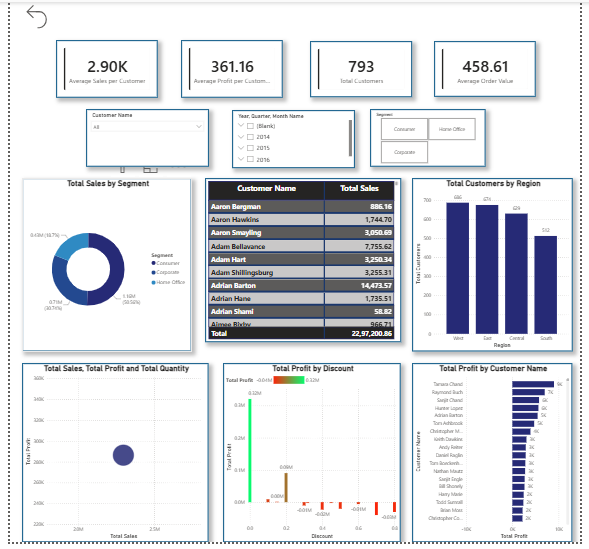

The page's visual inventory and layout, read from the dashboard file:
{"tool":"powerbi","page":{"name":"customer analysis","canvas":[1480,1400],"ordinal":1},"visuals":[{"type":"cardVisual","fields":{"Data":["_Measures.Total Customers"]},"box":[778.6,102.4,265.4,146.1],"z":0},{"type":"cardVisual","fields":{"Data":["_Measures.Average Profit per Customer"]},"box":[442.9,97.6,264.3,150],"z":1000},{"type":"cardVisual","fields":{"Data":["_Measures.Average Sales per Customer"]},"box":[119,97.6,264.3,150],"z":2000},{"type":"cardVisual","fields":{"Data":["_Measures.Average Order Value"]},"box":[1100,102.4,264.3,145.2],"z":3000},{"type":"tableEx","fields":{"Values":["Dim_Customer.Customer Name","_Measures.Total Sales"]},"box":[504.8,457.1,508.6,425.9],"z":4000},{"type":"barChart","fields":{"Y":["_Measures.Total Profit"],"Category":["Dim_Customer.Customer Name"]},"box":[1041.9,935.5,416.1,464.5],"z":5000},{"type":"donutChart","fields":{"Category":["Dim_Customer.Segment"],"Y":["_Measures.Total Sales"]},"box":[31,457.1,440.5,450],"z":6000},{"type":"columnChart","fields":{"Category":["Fact_Sales.Region"],"Y":["_Measures.Total Customers"]},"box":[1042.9,457.1,416.7,450],"z":7000},{"type":"scatterChart","fields":{"X":["_Measures.Total Sales"],"Y":["_Measures.Total Profit"],"Size":["_Measures.Total Quantity"]},"box":[32.3,935.5,483.9,464.5],"z":8000},{"type":"slicer","fields":{"Values":["Dim_Customer.Customer Name"]},"box":[197.6,278.6,319,150],"z":9000},{"type":"slicer","fields":{"Values":["Dim_Customer.Segment"]},"box":[933.3,278.6,300,150],"z":10000},{"type":"actionButton","box":[31,0,100,76.2],"z":11000},{"type":"columnChart","fields":{"Y":["_Measures.Total Profit"],"Category":["Fact_Sales.Discount"]},"box":[551.6,935.5,461.3,464.5],"z":12000},{"type":"slicer","fields":{"Values":["Dim_Date.Year","Dim_Date.Quarter","Dim_Date.Month Name"]},"box":[574.4,279.1,318.6,151.2],"z":13000}]}

Visuals, with their boxes in screenshot pixels (x1, y1, x2, y2), scaled from the page's 1480x1400 canvas onto the 589x549 screenshot:
cardVisual - _Measures.Total Customers: bbox(310, 40, 415, 97)
cardVisual - _Measures.Average Profit per Customer: bbox(176, 38, 281, 97)
cardVisual - _Measures.Average Sales per Customer: bbox(47, 38, 153, 97)
cardVisual - _Measures.Average Order Value: bbox(438, 40, 543, 97)
tableEx - Dim_Customer.Customer Name x _Measures.Total Sales: bbox(201, 179, 403, 346)
barChart - _Measures.Total Profit x Dim_Customer.Customer Name: bbox(415, 367, 580, 548)
donutChart - Dim_Customer.Segment x _Measures.Total Sales: bbox(12, 179, 188, 356)
columnChart - Fact_Sales.Region x _Measures.Total Customers: bbox(415, 179, 581, 356)
scatterChart - _Measures.Total Sales x _Measures.Total Profit: bbox(13, 367, 205, 548)
slicer - Dim_Customer.Customer Name: bbox(79, 109, 206, 168)
slicer - Dim_Customer.Segment: bbox(371, 109, 491, 168)
actionButton: bbox(12, 0, 52, 30)
columnChart - _Measures.Total Profit x Fact_Sales.Discount: bbox(220, 367, 403, 548)
slicer - Dim_Date.Year x Dim_Date.Quarter: bbox(229, 109, 355, 169)
